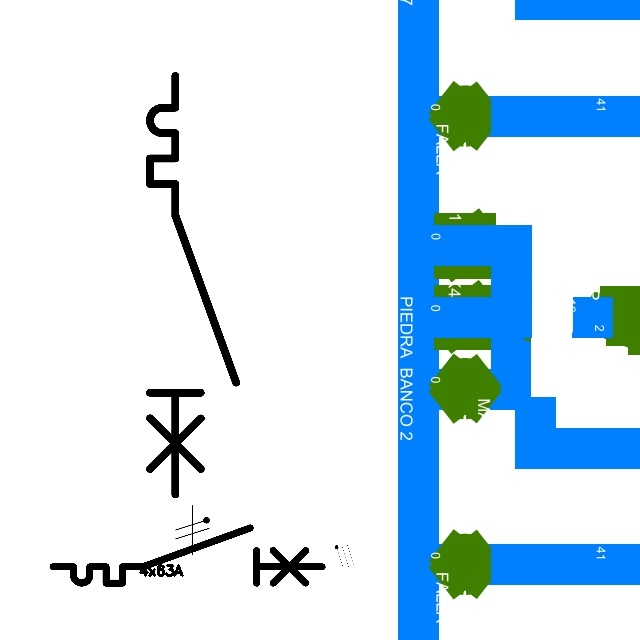interruptor_termomagnetico: (139, 65, 246, 505), (46, 521, 329, 590)
